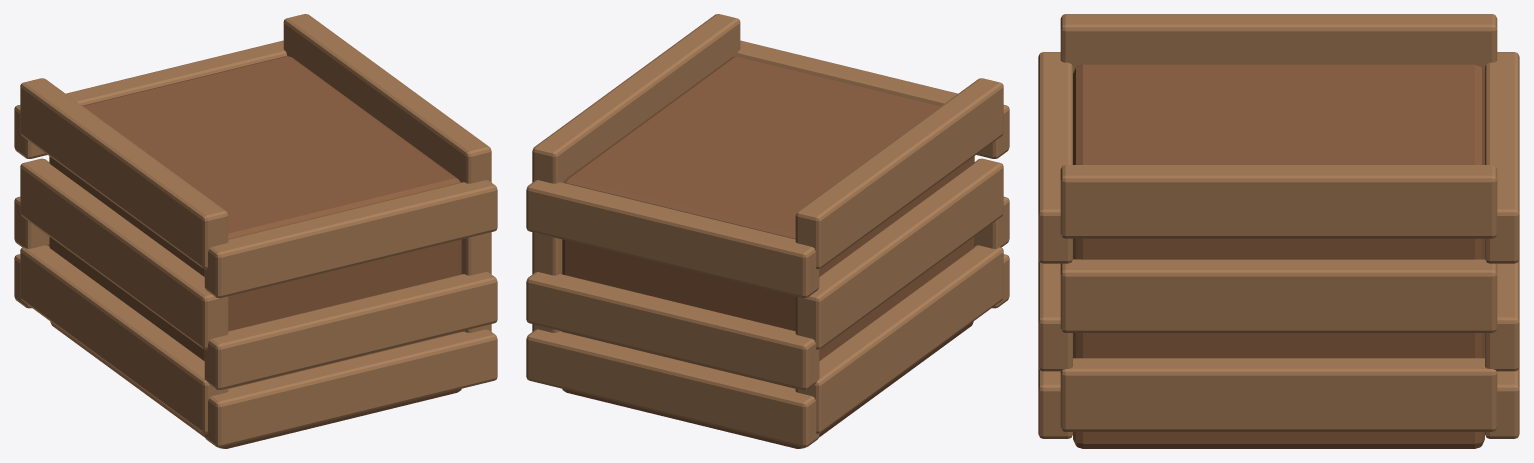
Rendered from SM_Menu_ScrollCrate.fbx.
3 views of the same model, side by side, from view 1: azimuth 30°, elevation 25°; view 2: azimuth 150°, elevation 25°; view 3: azimuth 270°, elevation 25° (orthographic). The views are drawn at different scales.
Parts seen in each view (by area): view 1: Timber.069_Baked; view 2: Timber.069_Baked; view 3: Timber.069_Baked.
Part boxes in pixels (x1=…): Timber.069_Baked: x1=14, y1=14, x2=497, y2=448; Timber.069_Baked: x1=526, y1=14, x2=1009, y2=448; Timber.069_Baked: x1=1038, y1=14, x2=1519, y2=448.
Size of the model in its own units: 79 by 97 by 64.
